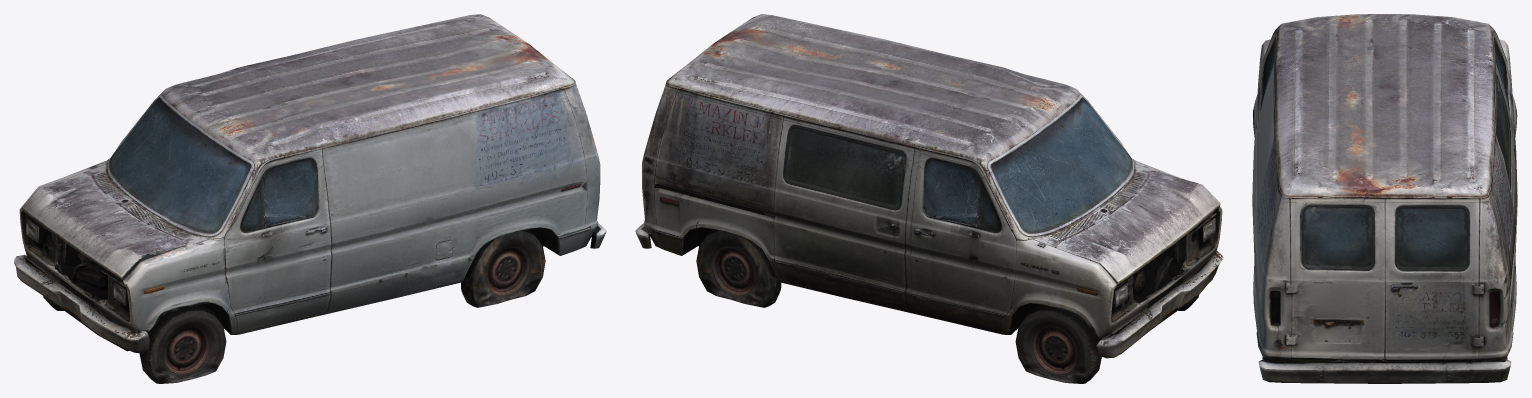
Rendered from graffiti_van.glb.
3 views of the same model, side by side, from view 1: azimuth 30°, elevation 25°; view 2: azimuth 150°, elevation 25°; view 3: azimuth 270°, elevation 25° (orthographic). The views are drawn at different scales.
Parts seen in each view (by area): view 1: default001_Material #105_0; view 2: default001_Material #105_0; view 3: default001_Material #105_0.
Boxes of the visible parts, box(x1,y1,x2,y2) form: default001_Material #105_0: box(14, 14, 606, 383); default001_Material #105_0: box(635, 14, 1223, 383); default001_Material #105_0: box(1252, 14, 1517, 383).
Size of the model in its own units: 151 by 61.14 by 65.14.
Materials: 1 (1 with a texture image).
